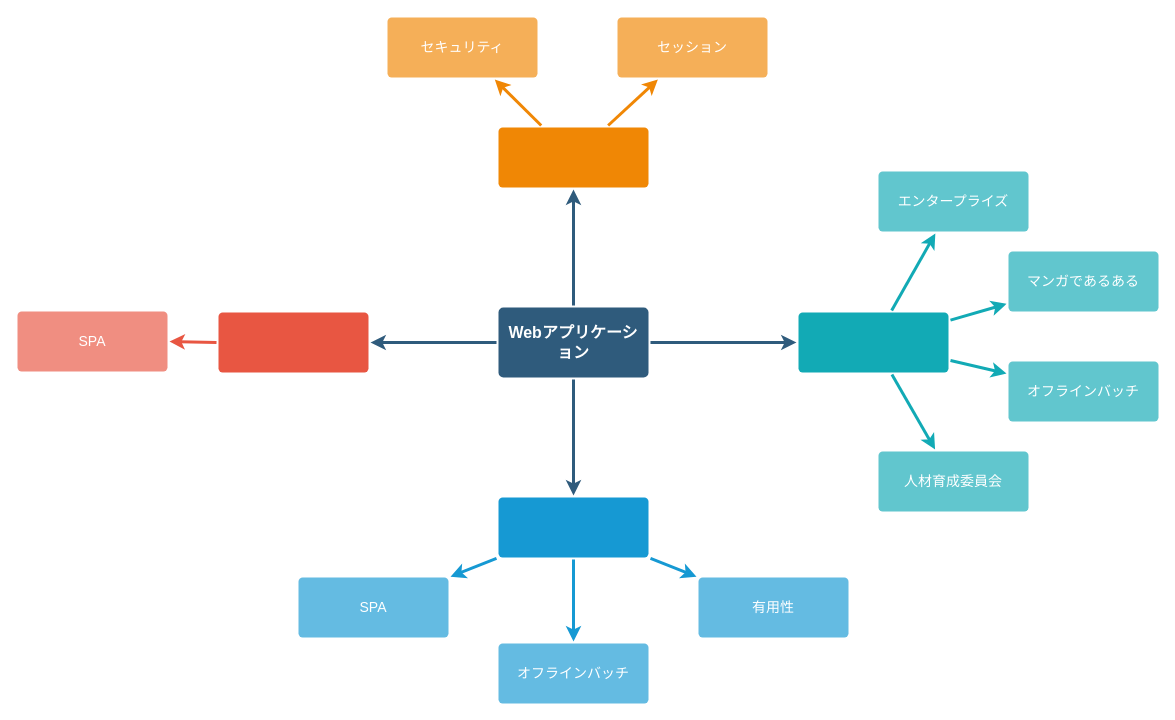
Some shapes in this 1175 by 720 pixel diagram are drawn without their labels. The shapes that lost their labels are listed below. From the top down, each one's centre as x and y in pixels, then its label:
(x=573, y=157): ECサイト
(x=293, y=342): Twitter
(x=873, y=342): 従業員管理システム
(x=573, y=527): Jira
